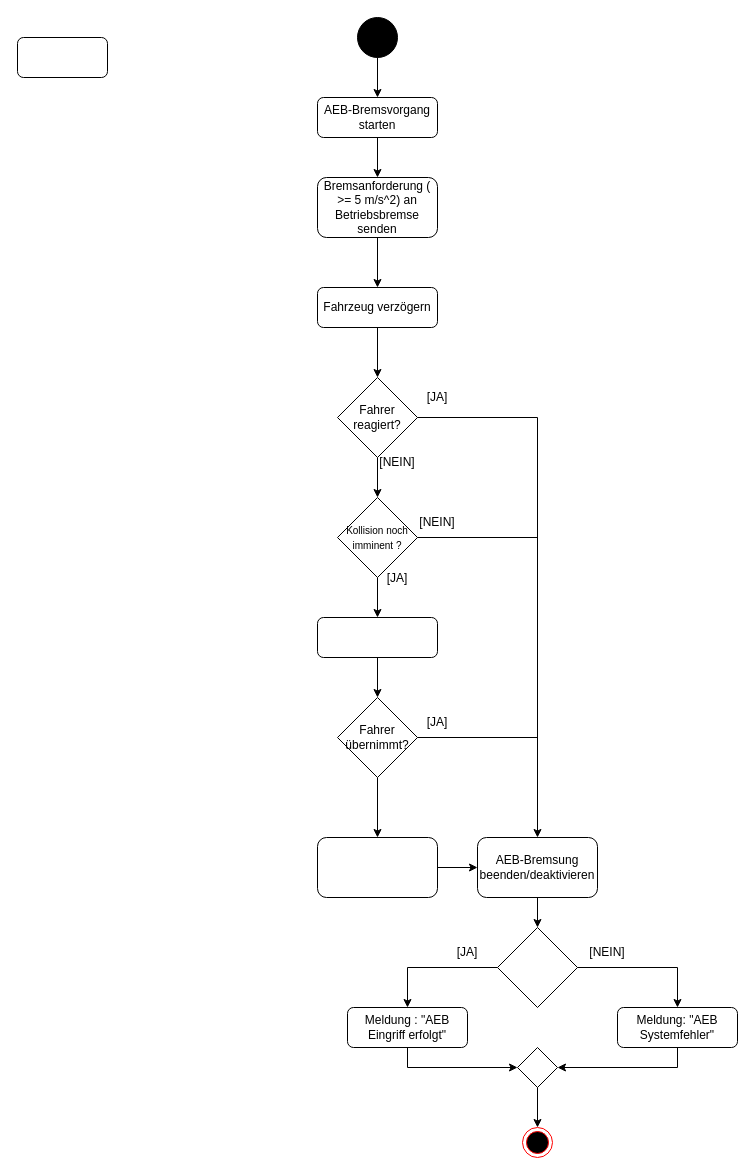
Some shapes in this 755 by 1175 pixel diagram are drawn without their labels. The box of each missing label's shape, as (x1, y1, x2, y2) in pixels:
AEB: (16, 36, 108, 78)
Restgeschwindigkeit minimieren bis Aufprall oder Stillstand: (316, 836, 438, 898)
Systemstatus fehlerfrei?: (496, 926, 578, 1008)
weiter bremsen: (316, 616, 438, 658)
